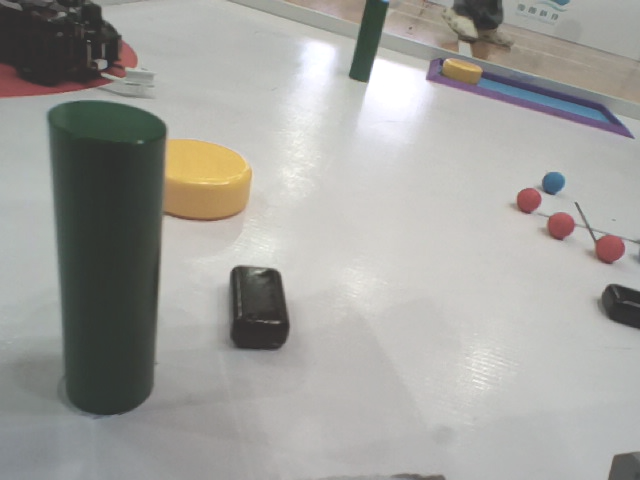black: (41, 100, 159, 422), (220, 261, 301, 352), (596, 278, 640, 330)
blue: (537, 168, 567, 192)
kuang: (424, 54, 636, 145)
red: (595, 231, 628, 266), (547, 207, 576, 244), (517, 187, 545, 216)
yellow: (161, 137, 258, 227), (439, 56, 484, 84)
zhuzi: (349, 1, 390, 85)
